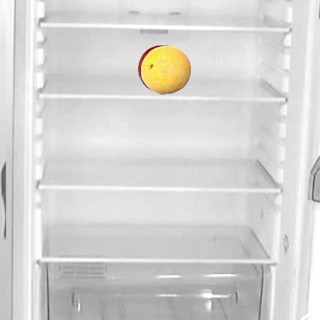Apple Braeburn: (137, 44, 187, 94)
Cantaloupe 1: (140, 44, 190, 94)
